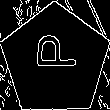P_W: (31, 41, 80, 79)
